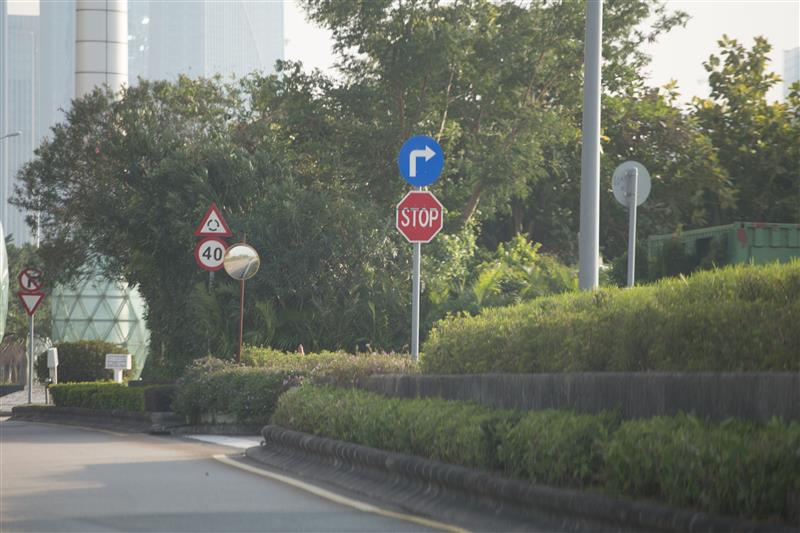40SpeedLimit: (196, 236, 228, 272)
noRightTurn: (18, 267, 43, 292)
rightTurnOnly: (397, 133, 445, 187)
roundaboutR: (196, 201, 232, 236)
stop: (396, 189, 444, 243)
yield: (17, 291, 45, 315)
